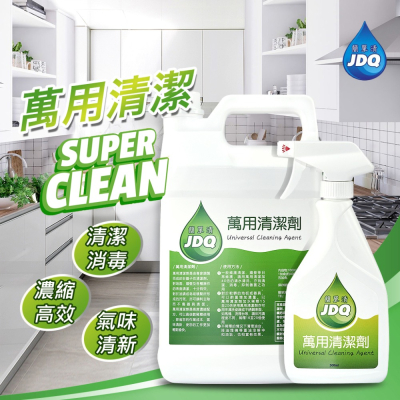cleaner: (154, 87, 324, 385), (274, 140, 399, 388)
